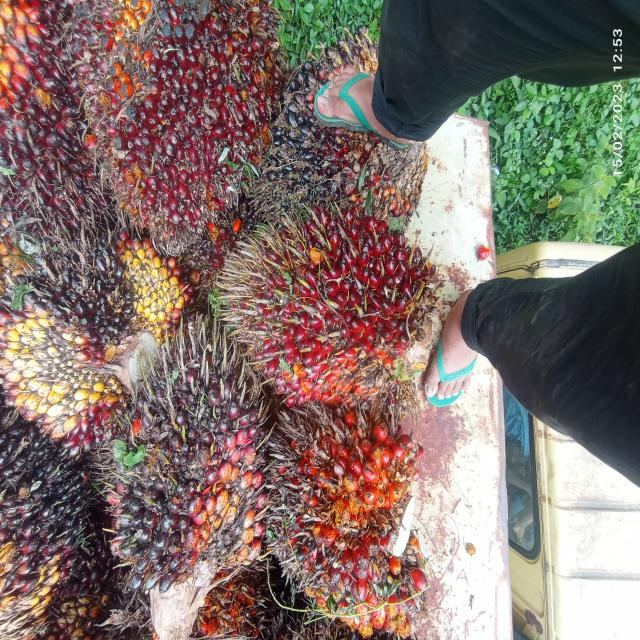fraksi 00: (92, 318, 293, 638), (0, 175, 201, 463)
fraksi 1: (80, 0, 292, 261)
fraksi 3: (204, 146, 430, 458), (252, 367, 448, 640)
